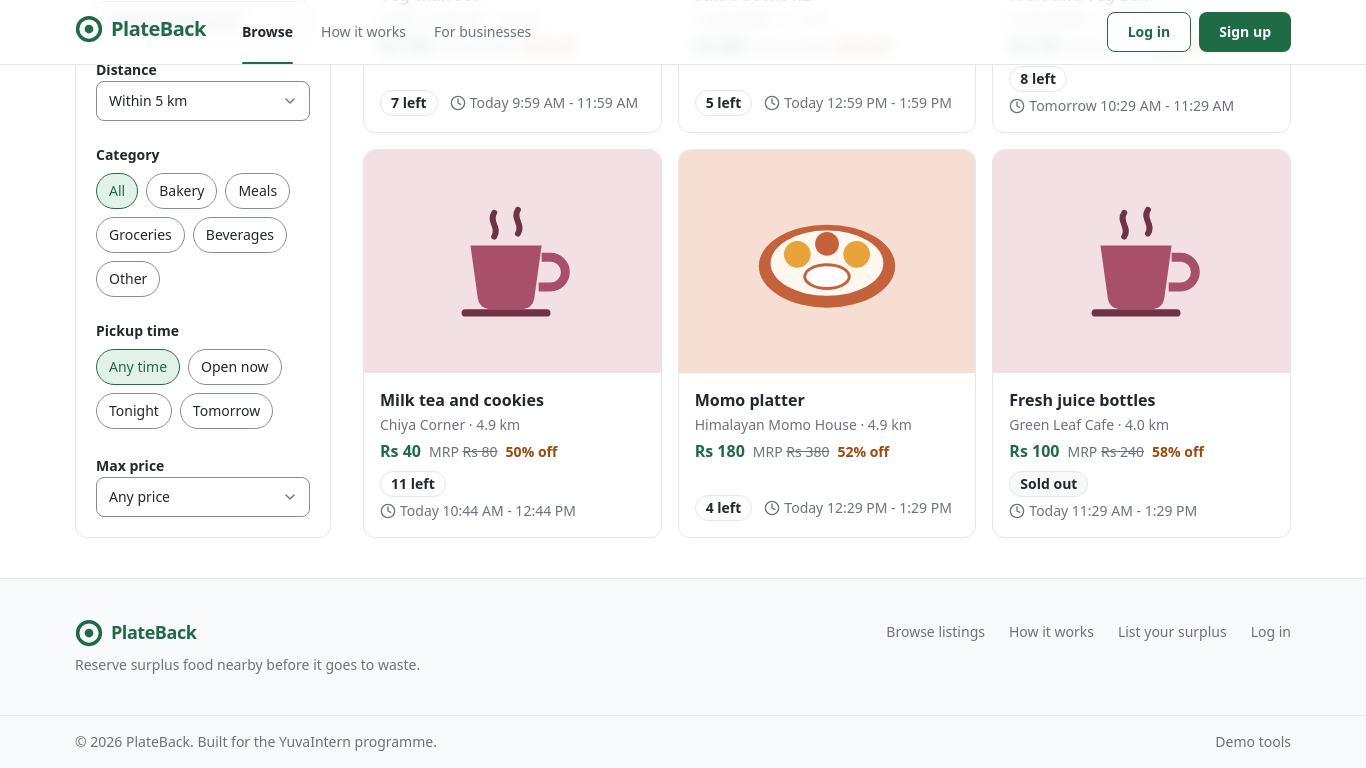
Test: SiteFooter › keeps the demo reset inside a Demo tools dialog
(page scrolled)
Check: the button "Reset demo data" is not shown
Click the button "Demo tools". click: [1253, 742]
box: left=1215, top=732, right=1291, bottom=752
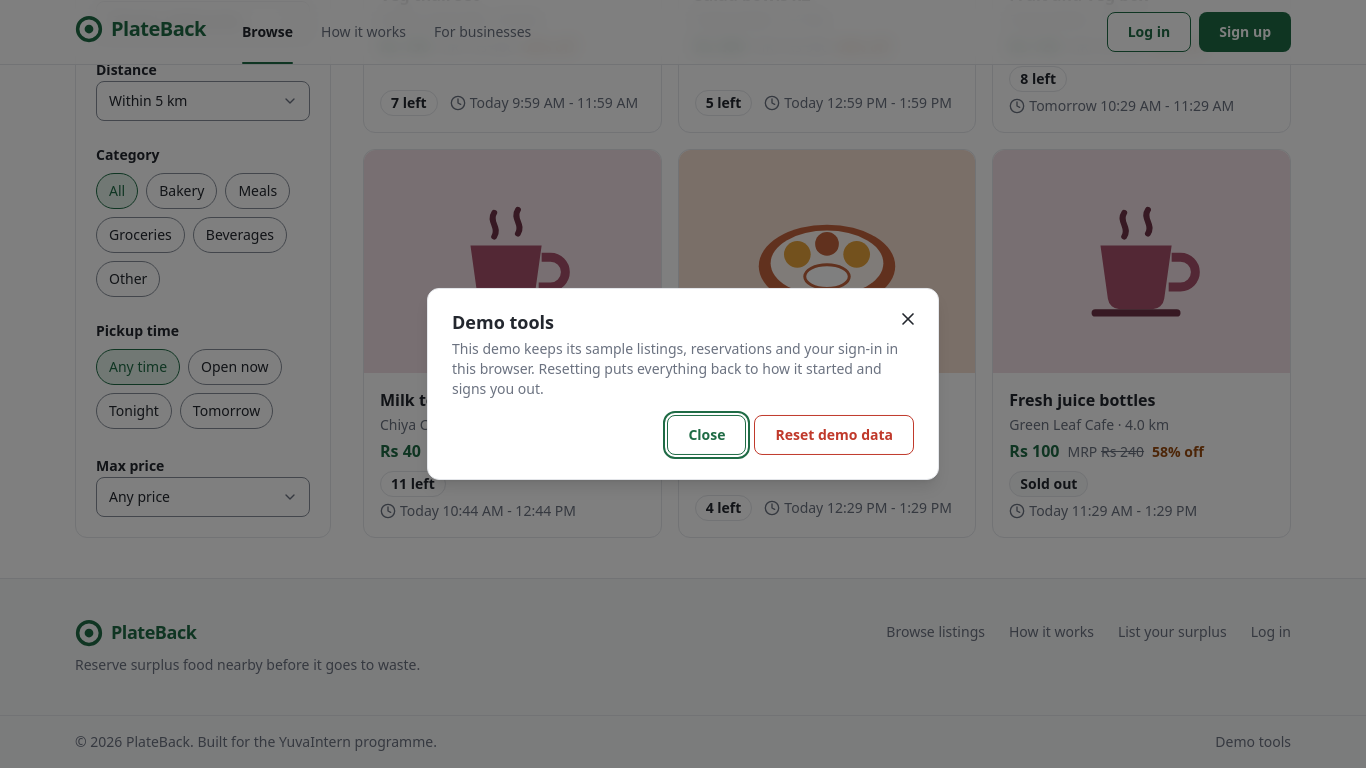
Check: the button "Reset demo data" is shown, box left=754, top=415, right=914, bottom=455
